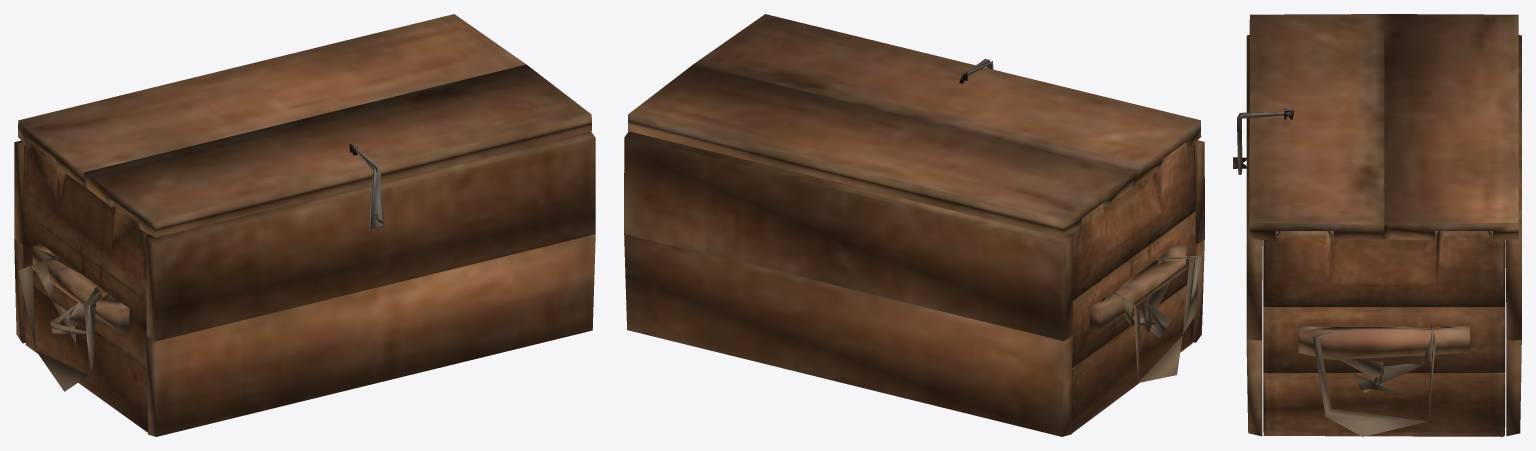
The model's file is caisse.glb.
3 views of the same model, side by side, from view 1: azimuth 30°, elevation 25°; view 2: azimuth 150°, elevation 25°; view 3: azimuth 270°, elevation 25° (orthographic). The views are drawn at different scales.
Parts seen in each view (by area): view 1: wooden_crate_01_lid; view 2: wooden_crate_01_lid; view 3: wooden_crate_01_lid.
Part boxes in pixels (bbox=[...]): wooden_crate_01_lid: bbox=[14, 14, 595, 436]; wooden_crate_01_lid: bbox=[624, 14, 1204, 436]; wooden_crate_01_lid: bbox=[1233, 14, 1521, 436].
Bounding box in the file's own units: 0.8111 × 0.3469 × 0.4043.
Materials: 1 (1 with a texture image).
